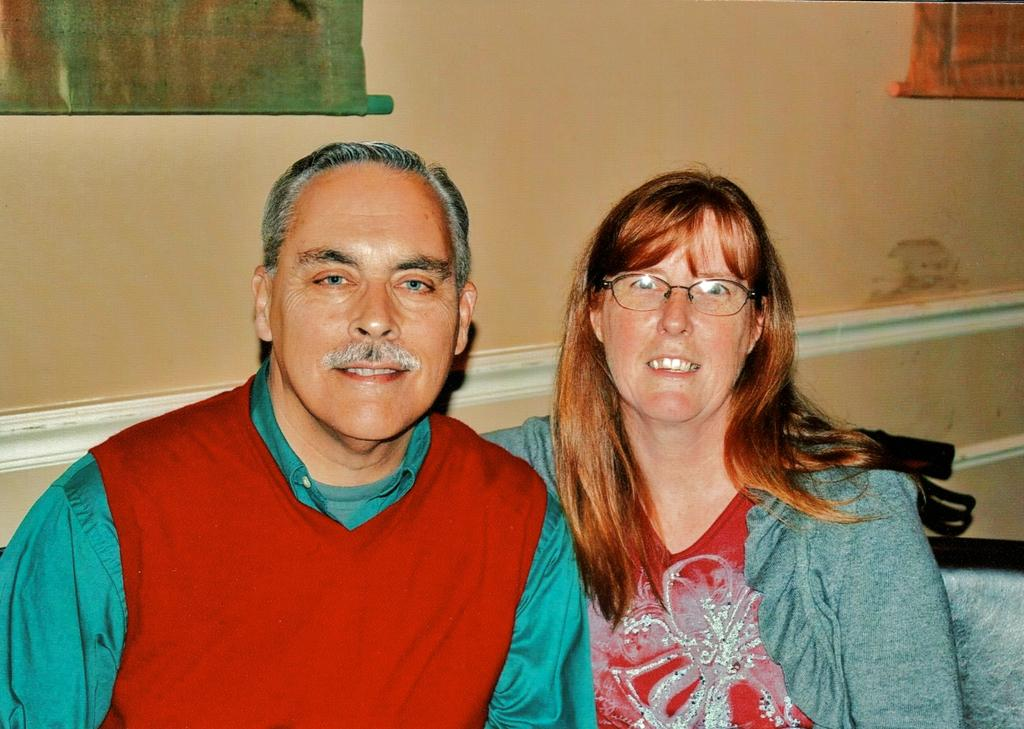Sem Máscara: (267, 176, 459, 435), (597, 205, 750, 422)
